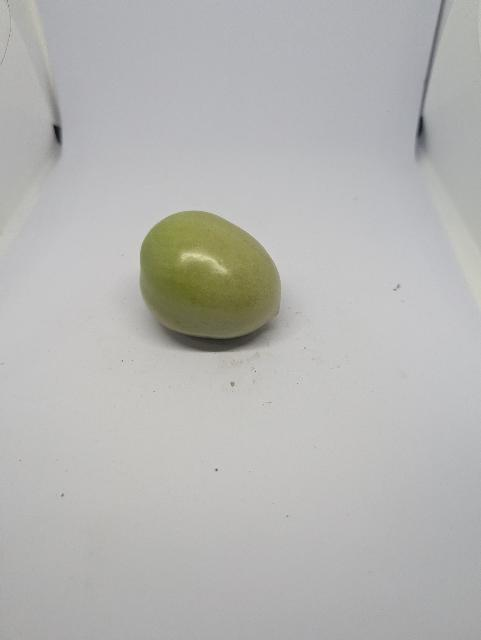green: (137, 211, 287, 340)
